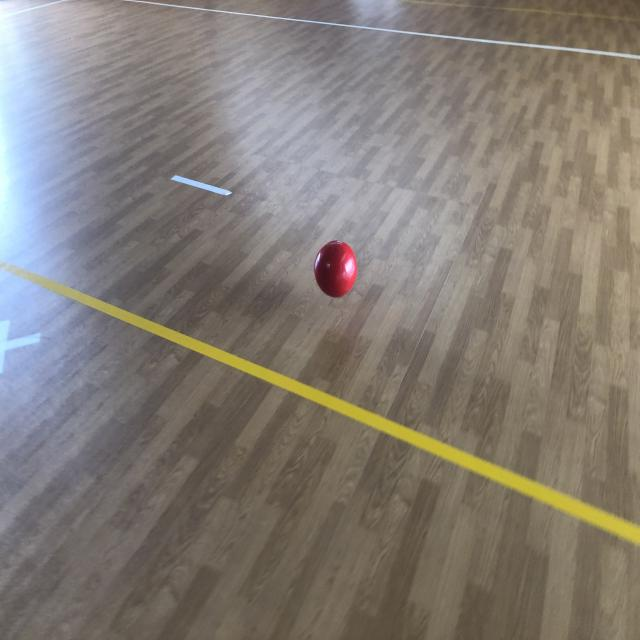red_ball: (314, 239, 356, 299)
